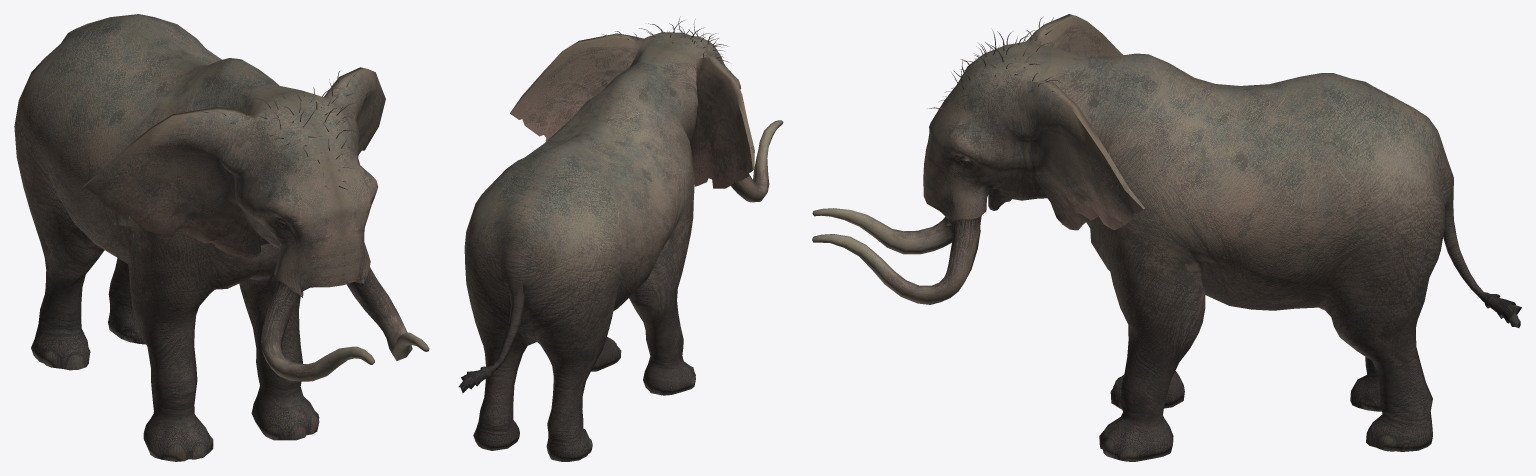
Rendered from elefante.obj.
The picture shows the model from 3 angles, left to right: view 1: azimuth 30°, elevation 25°; view 2: azimuth 150°, elevation 25°; view 3: azimuth 270°, elevation 25°; orthographic projection. The views are drawn at different scales.
Visible parts, largest first — view 1: pasted__polySurface37 pasted__polySurface10 pasted__polySurface8; view 2: pasted__polySurface37 pasted__polySurface10 pasted__polySurface8; view 3: pasted__polySurface37 pasted__polySurface10 pasted__polySurface8.
Part boxes in pixels (x1,y1,x2,y2): pasted__polySurface37 pasted__polySurface10 pasted__polySurface8: (14,14,429,461); pasted__polySurface37 pasted__polySurface10 pasted__polySurface8: (458,16,783,461); pasted__polySurface37 pasted__polySurface10 pasted__polySurface8: (812,14,1521,461).
Bounding box in the file's own units: 11.65 × 14.26 × 23.84.
1 material, 1 textured.
